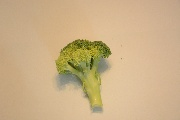broccoli: (53, 39, 113, 112)
